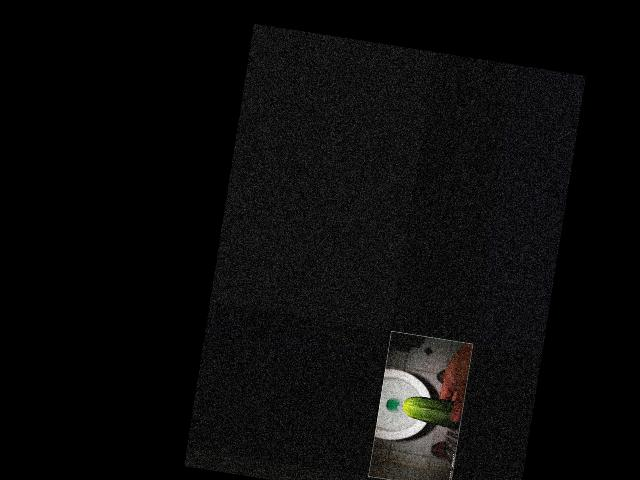cucumber: (401, 394, 464, 430)
